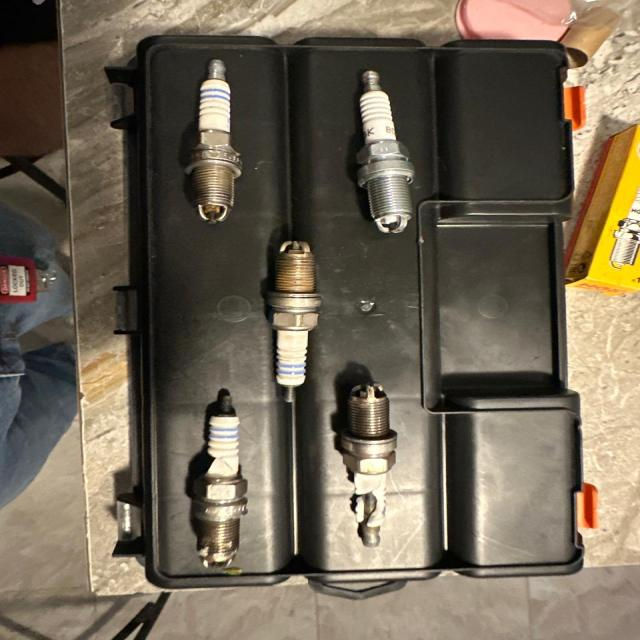damaged_spark-plug: (195, 389, 244, 574), (347, 388, 393, 548)
spark-plug: (351, 73, 425, 236), (266, 235, 318, 401), (186, 56, 233, 220)
